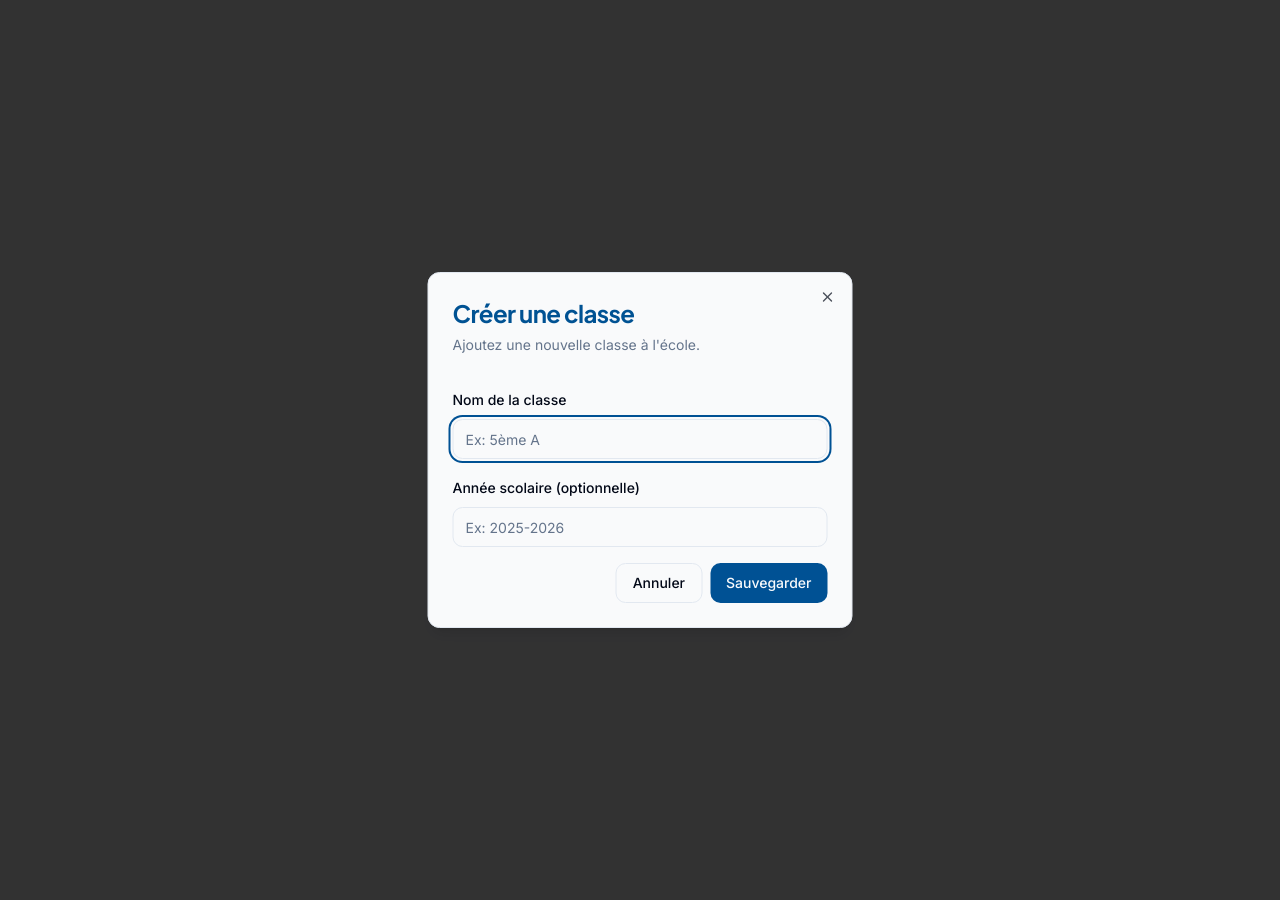
CreateClassDialog › shows server error on API failure
The image size is (1280, 900).
Type "Duplicate" into the field with placeholder "Ex: 5ème A" at (640, 439), box [452, 419, 828, 459]
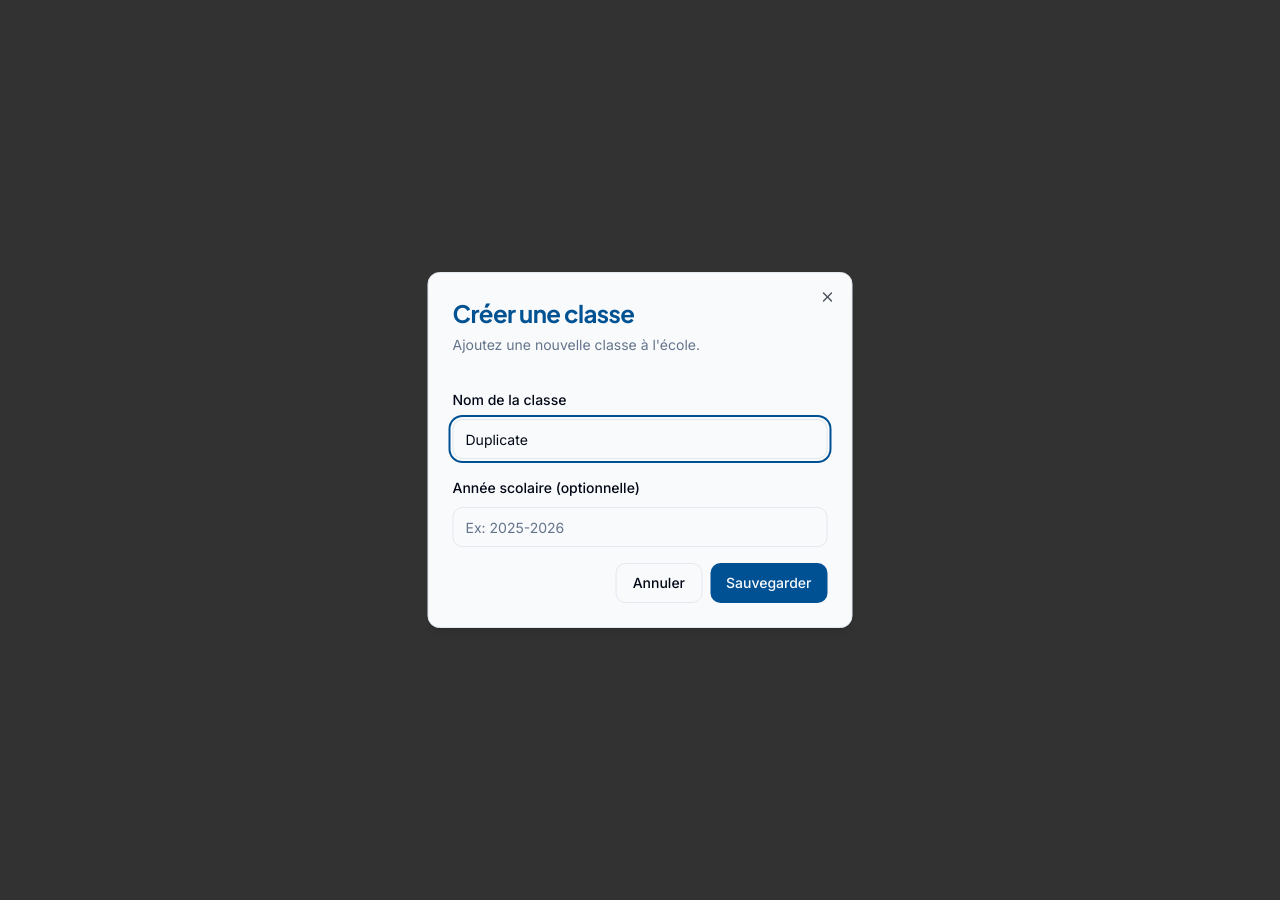
Click the button "Sauvegarder" at (769, 583), box [710, 563, 828, 603]
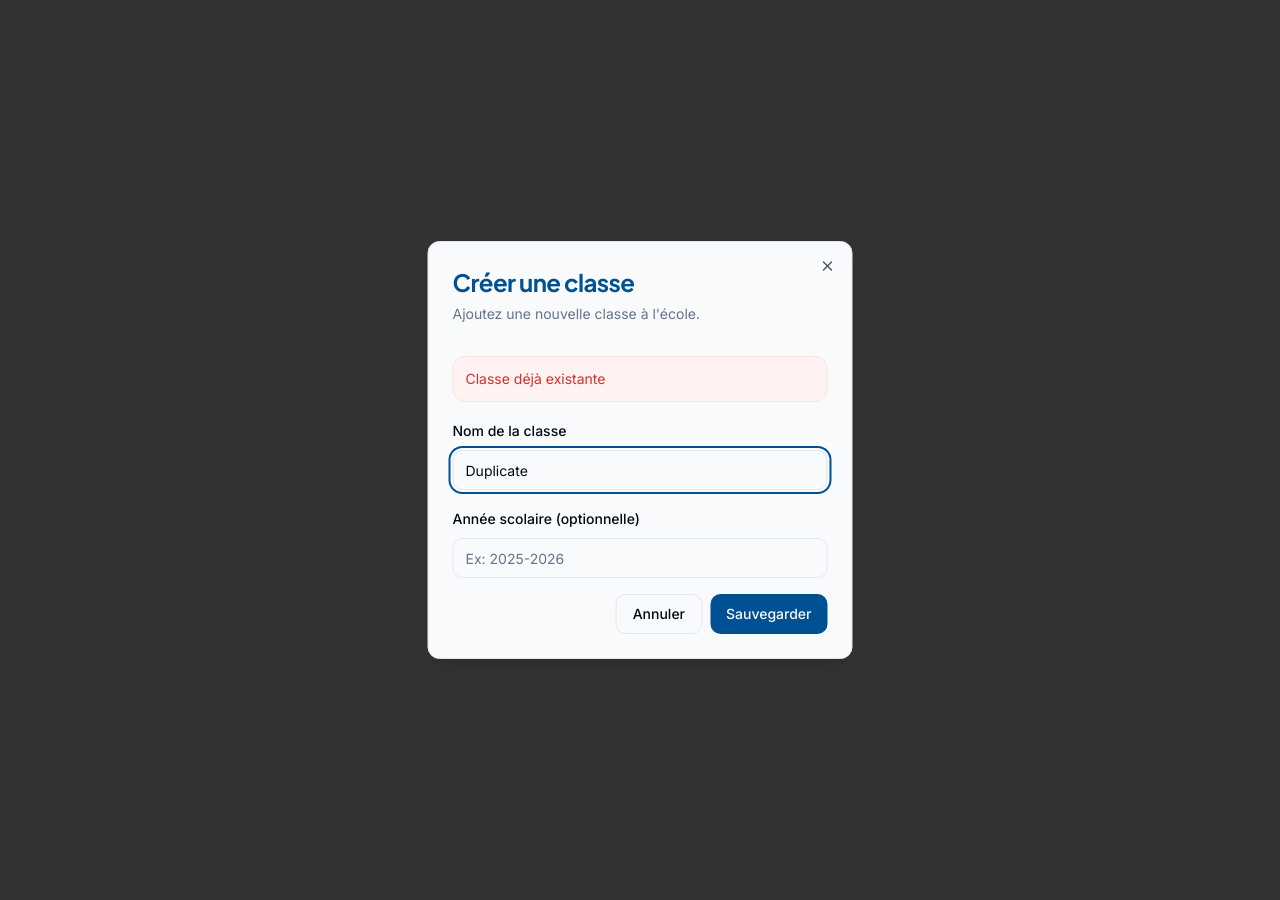
Expected: the text "Classe déjà existante" is shown, [452, 356, 828, 402]
